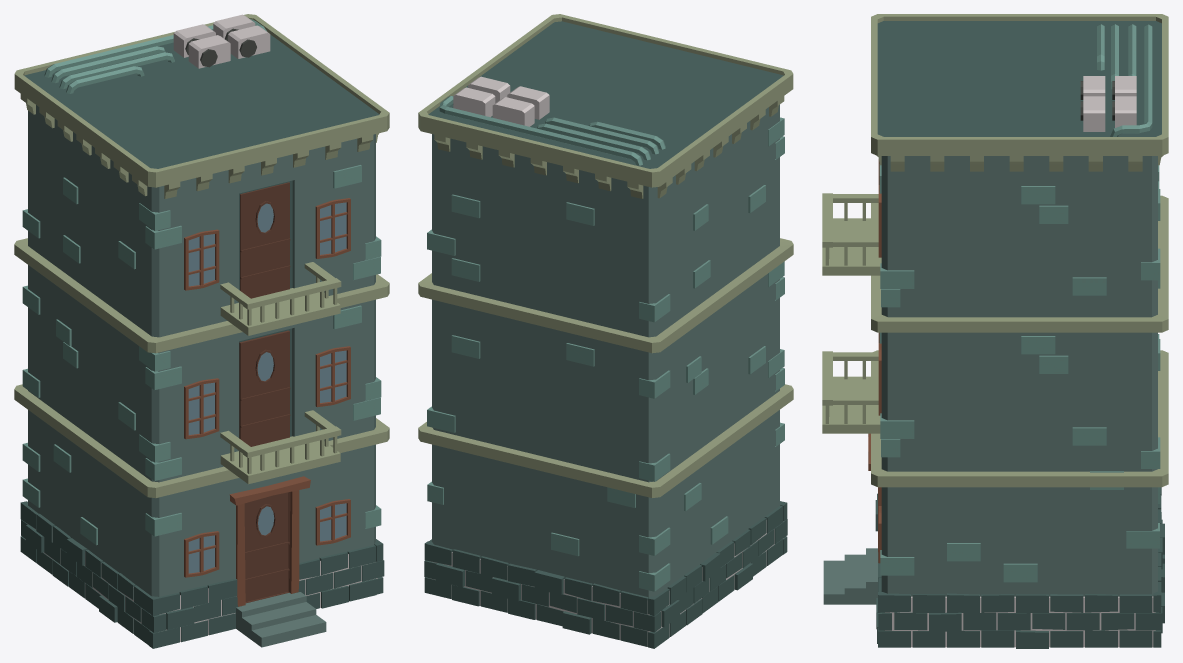
Rendered from three_story_balcony_mat.glb.
3 views of the same model, side by side, from view 1: azimuth 30°, elevation 25°; view 2: azimuth 150°, elevation 25°; view 3: azimuth 270°, elevation 25° (orthographic). The views are drawn at different scales.
Visible parts, largest first — view 1: 3Story_Balcony_Mat; view 2: 3Story_Balcony_Mat; view 3: 3Story_Balcony_Mat.
Part boxes in pixels (box(x1,y1,x2,y2)): 3Story_Balcony_Mat: box(14, 14, 389, 648); 3Story_Balcony_Mat: box(418, 14, 793, 648); 3Story_Balcony_Mat: box(822, 14, 1168, 648).
Bounding box in the file's own units: 2.16 × 4.21 × 2.51.
Materials: 1 (1 with a texture image).
